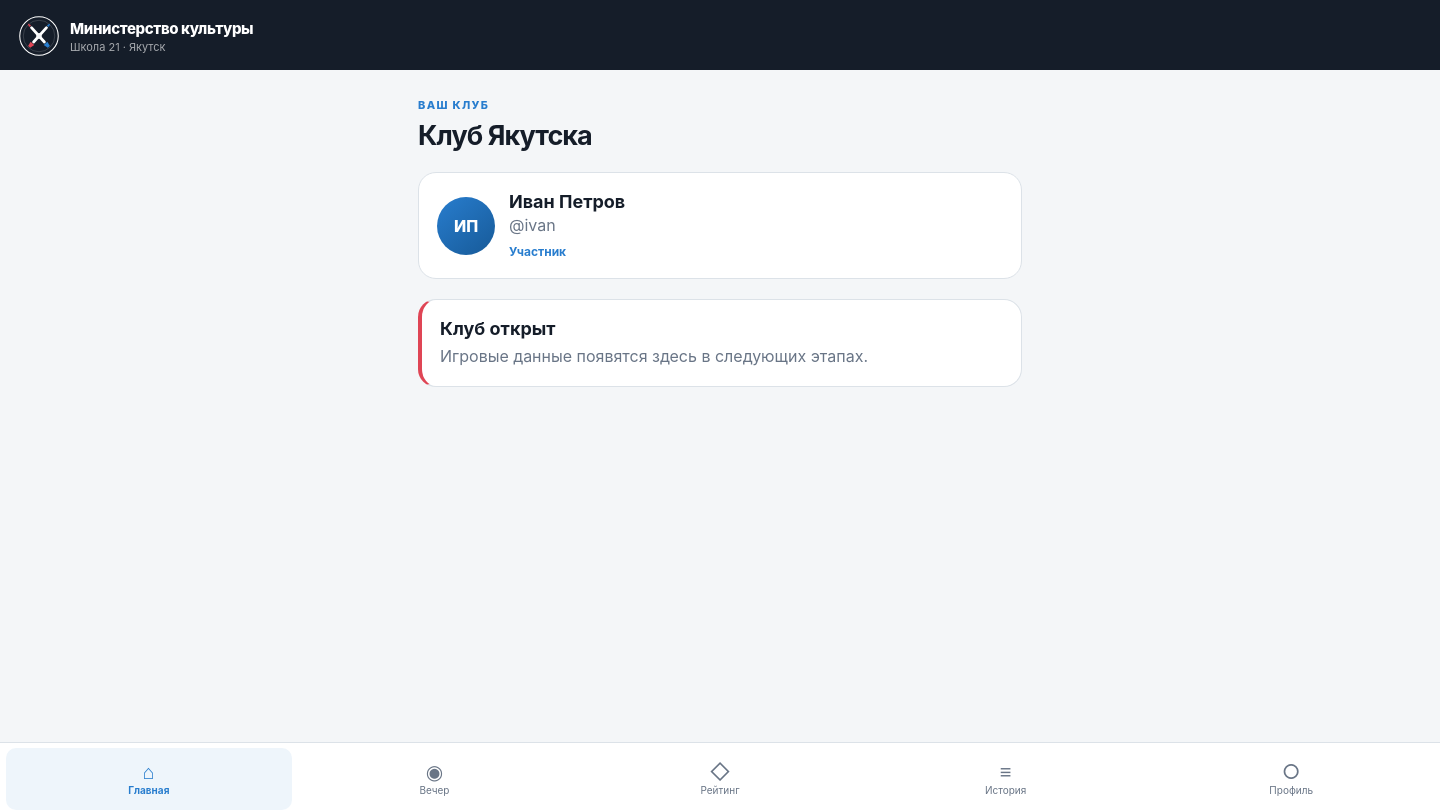
renders all five routes without invented game data
Expected: the heading "Клуб Якутска" is shown, 418,119 -> 592,152
Click the button "◇ Рейтинг". click: (720, 779)
box: 577,748 -> 863,809
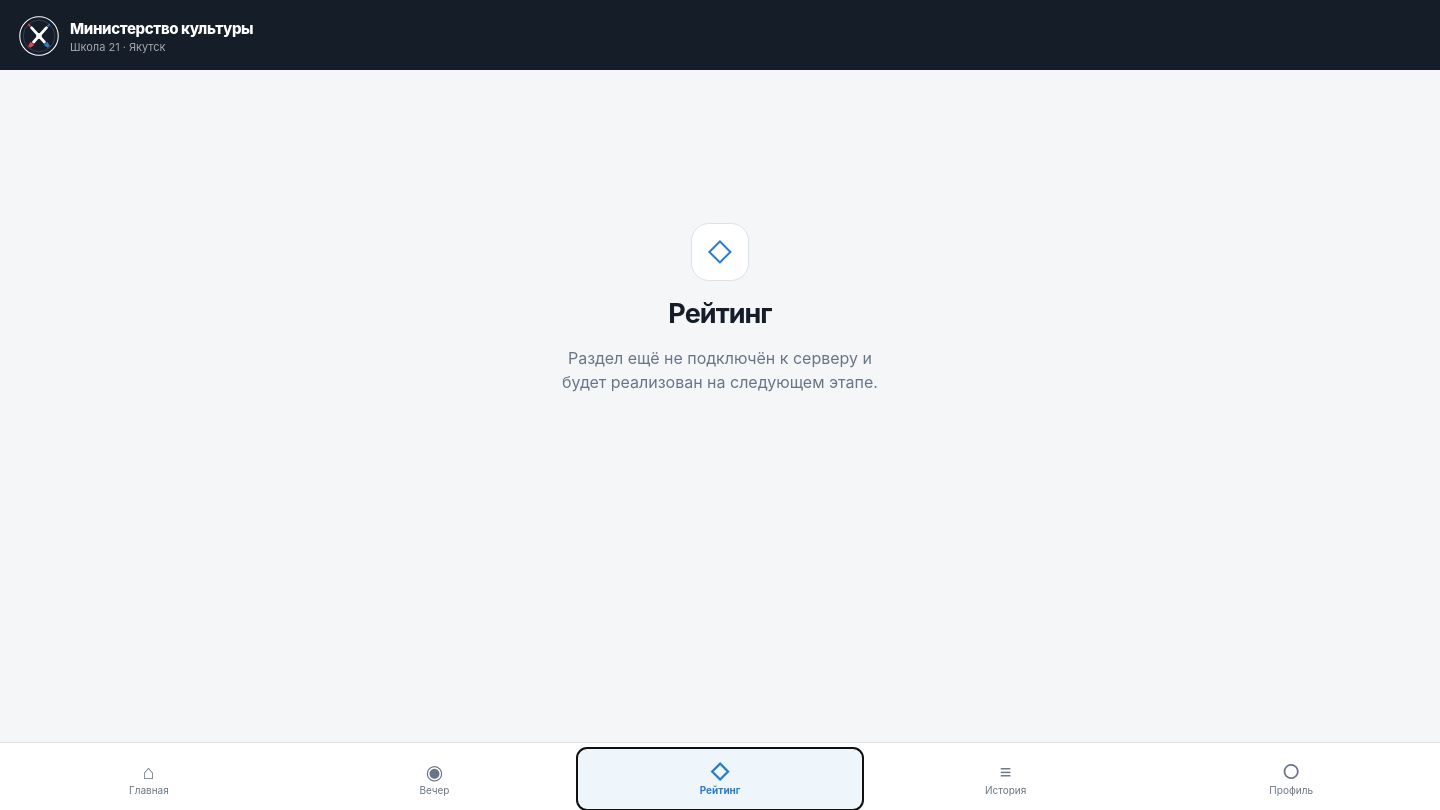
Now the text "Раздел ещё не подключён" is shown, box 562,348 -> 878,392
Click the button "○ Профиль". click: (1291, 779)
box: 1148,748 -> 1434,809
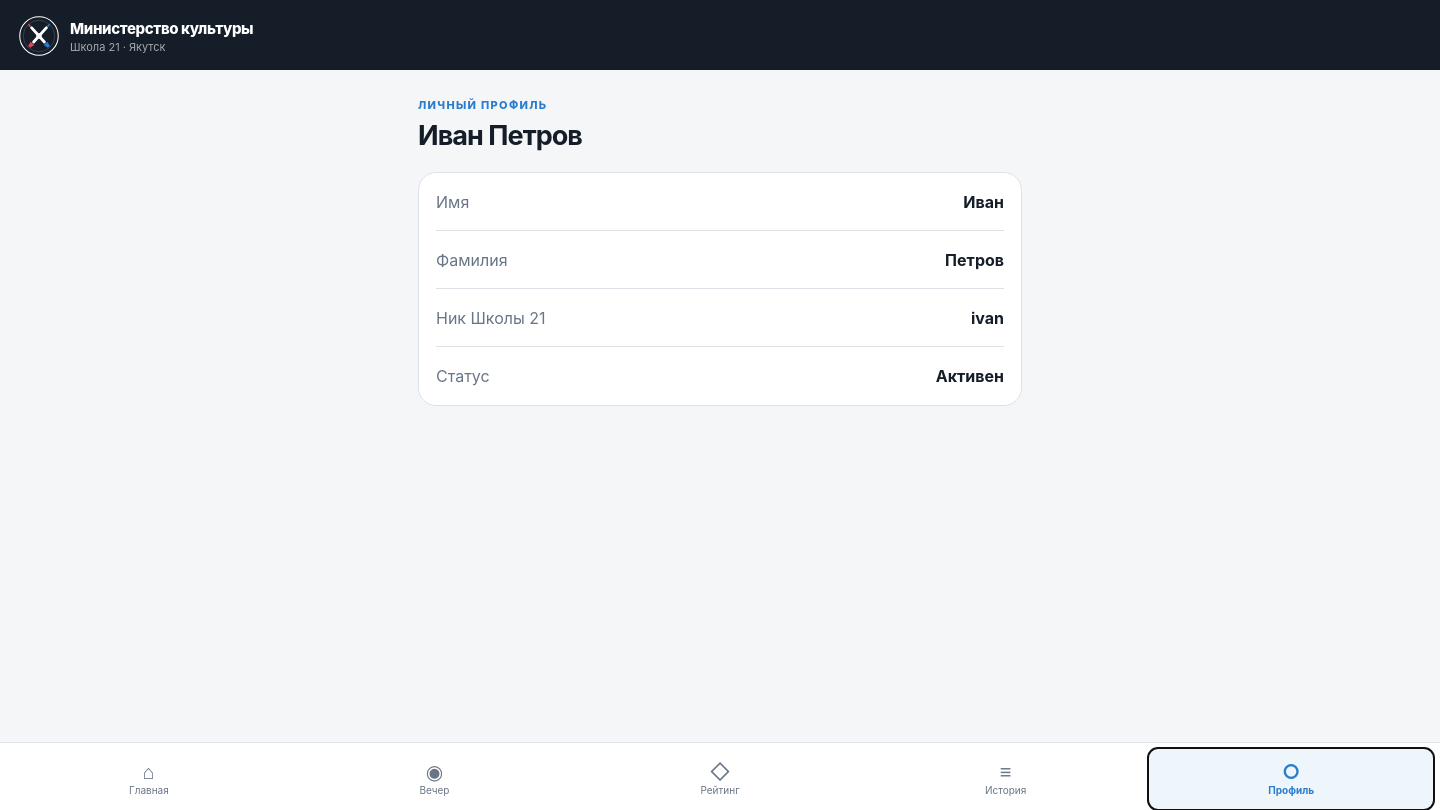
Now the text "Ник Школы 21" is shown, box 436,308 -> 546,328
Now the text "ivan" is shown, box 971,308 -> 1004,328
